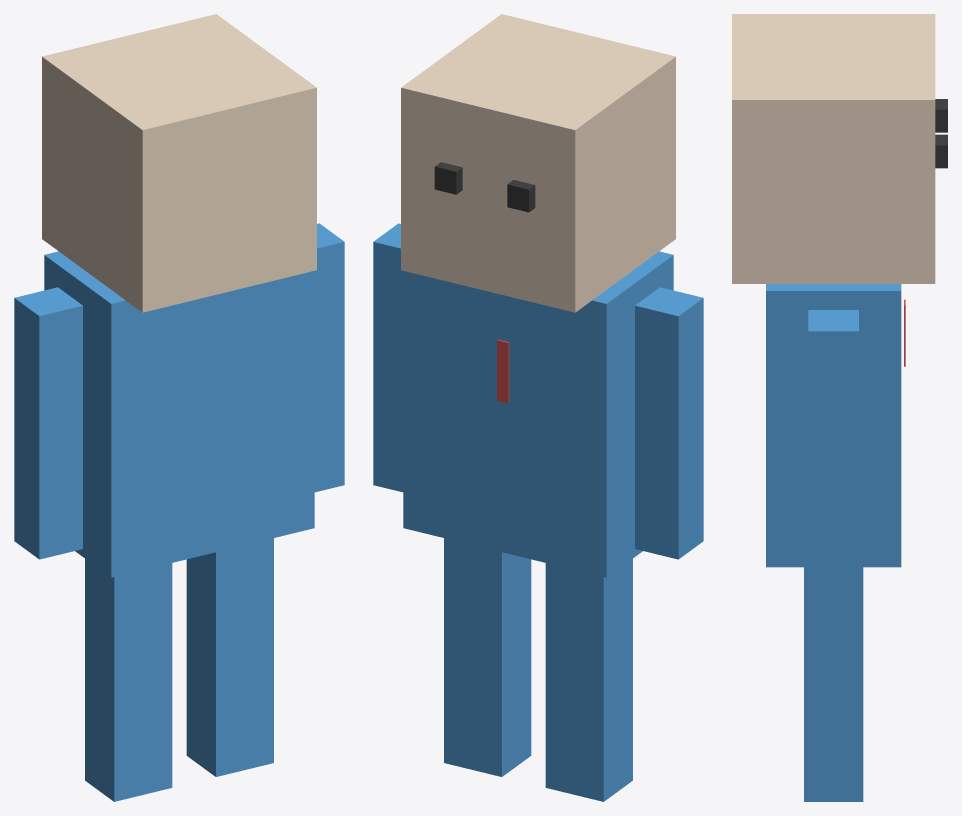
Rendered from agent_generated.glb.
The picture shows the model from 3 angles, left to right: view 1: azimuth 30°, elevation 25°; view 2: azimuth 150°, elevation 25°; view 3: azimuth 270°, elevation 25°; orthographic projection.
Visible parts, largest first — view 1: Cube.001, Cube, Cube.008, Cube.007, Cube.006, Cube.005; view 2: Cube.001, Cube, Cube.008, Cube.007, Cube.006, Cube.005, Cube.003, Cube.002, Cube.004; view 3: Cube.001, Cube, Cube.005, Cube.007, Cube.002, Cube.003.
Part boxes in pixels (x1=…): Cube.001: x1=42, y1=14, x2=316, y2=312; Cube: x1=44, y1=251, x2=314, y2=577; Cube.008: x1=85, y1=559, x2=172, y2=801; Cube.007: x1=186, y1=538, x2=273, y2=776; Cube.006: x1=14, y1=287, x2=82, y2=559; Cube.005: x1=314, y1=223, x2=344, y2=492; Cube.001: x1=401, y1=14, x2=675, y2=312; Cube: x1=403, y1=251, x2=673, y2=577; Cube.008: x1=545, y1=559, x2=632, y2=801; Cube.007: x1=444, y1=538, x2=531, y2=776; Cube.006: x1=635, y1=287, x2=703, y2=559; Cube.005: x1=373, y1=223, x2=403, y2=492; Cube.003: x1=507, y1=180, x2=535, y2=212; Cube.002: x1=434, y1=162, x2=462, y2=194; Cube.004: x1=497, y1=339, x2=509, y2=403; Cube.001: x1=732, y1=14, x2=935, y2=283; Cube: x1=766, y1=284, x2=901, y2=567; Cube.005: x1=808, y1=310, x2=858, y2=576; Cube.007: x1=804, y1=567, x2=863, y2=801; Cube.002: x1=935, y1=134, x2=947, y2=168; Cube.003: x1=935, y1=99, x2=947, y2=132.
Bounding box in the file's own units: 2.1 × 4.6 × 1.28.
